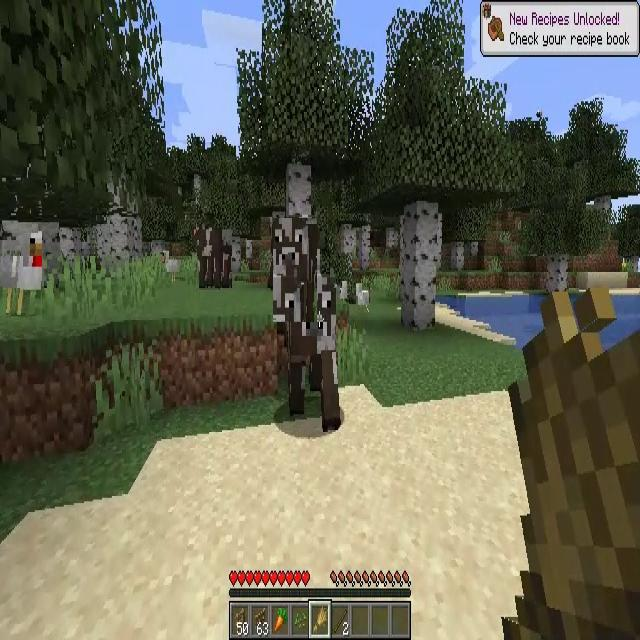cow: (289, 278, 342, 428), (274, 218, 318, 322), (192, 230, 232, 288)
duck: (0, 231, 42, 316), (161, 252, 179, 282), (356, 284, 370, 316)
